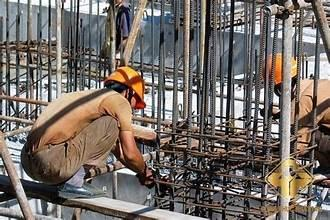Helmet: (103, 65, 149, 107), (259, 51, 306, 89)
Person: (17, 56, 163, 198), (256, 41, 330, 185)
bare-arms: (137, 164, 157, 192)
no-vest: (27, 90, 137, 154), (296, 79, 330, 149)
